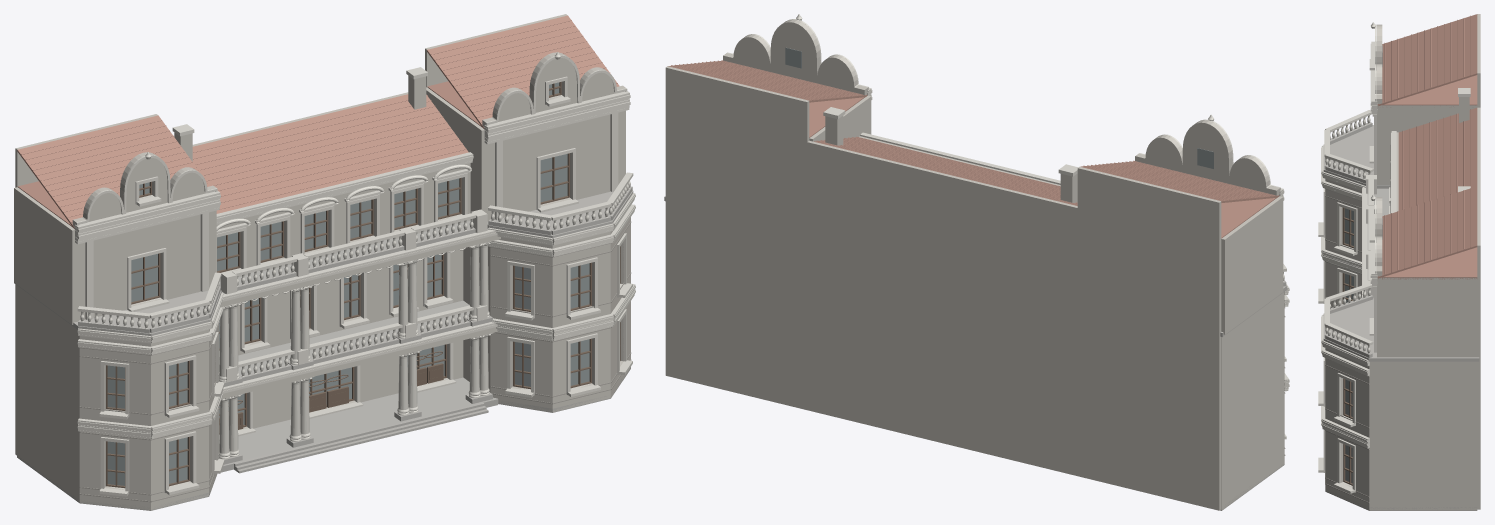
File: jingan-wenlian-old-house-web.glb
3 views of the same model, side by side, from view 1: azimuth 30°, elevation 25°; view 2: azimuth 150°, elevation 25°; view 3: azimuth 270°, elevation 25° (orthographic). The views are drawn at different scales.
Parts seen in each view (by area): view 1: 文联老楼南园面; view 2: 文联老楼南园面; view 3: 文联老楼南园面.
Part boxes in pixels (x1,y1,x2,y2): 文联老楼南园面: (14, 14, 635, 510); 文联老楼南园面: (664, 14, 1289, 510); 文联老楼南园面: (1318, 14, 1480, 510).
Size of the model in its own units: 30.69 by 17.49 by 8.98.
